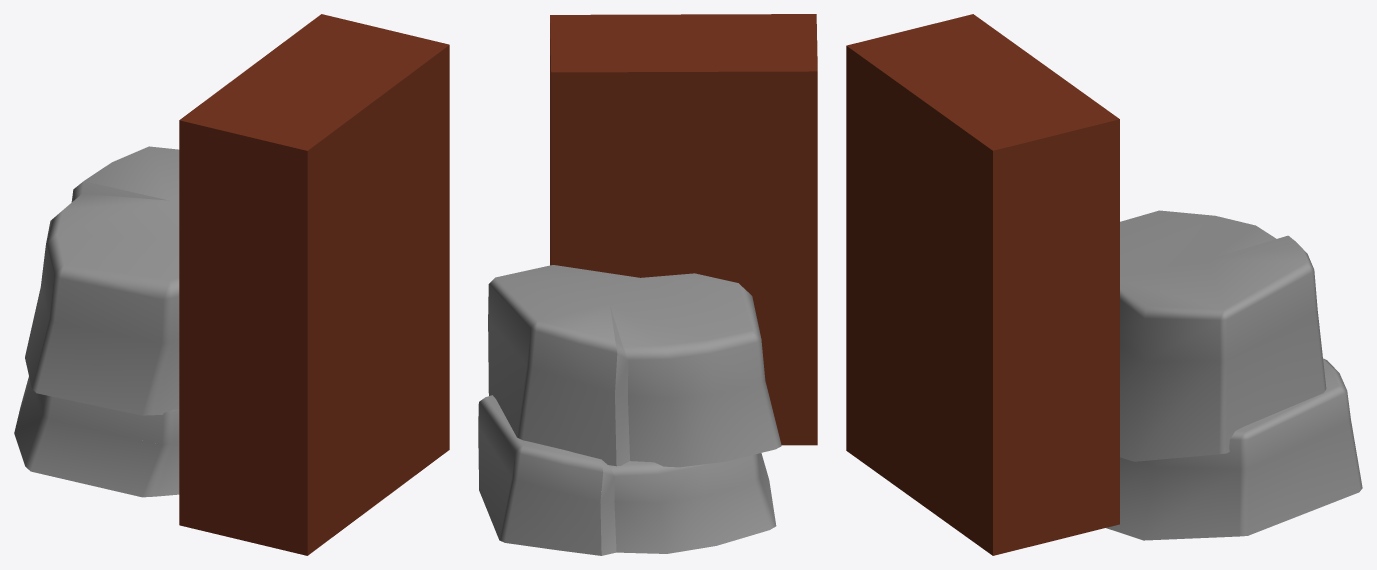
File: Model_DesertRock.fbx
3 renders of one model, left to right at view 1: azimuth 30°, elevation 25°; view 2: azimuth 150°, elevation 25°; view 3: azimuth 270°, elevation 25°, orthographic. The views are drawn at different scales.
Parts seen in each view (by area): view 1: Box001, Obj3d66-9454016-6-145, Obj3d66-9454016-6-144; view 2: Box001, Obj3d66-9454016-6-145, Obj3d66-9454016-6-144; view 3: Box001, Obj3d66-9454016-6-145, Obj3d66-9454016-6-144.
Boxes of the visible parts, x1,y1,x2,y2 form: Box001: (179, 14, 449, 555); Obj3d66-9454016-6-145: (25, 146, 179, 415); Obj3d66-9454016-6-144: (14, 377, 179, 497); Box001: (550, 14, 817, 445); Obj3d66-9454016-6-145: (488, 265, 781, 467); Obj3d66-9454016-6-144: (478, 395, 776, 555); Box001: (846, 14, 1119, 555); Obj3d66-9454016-6-145: (1120, 210, 1326, 461); Obj3d66-9454016-6-144: (1106, 358, 1362, 540).
Size of the model in its own units: 521 by 642 by 701.
